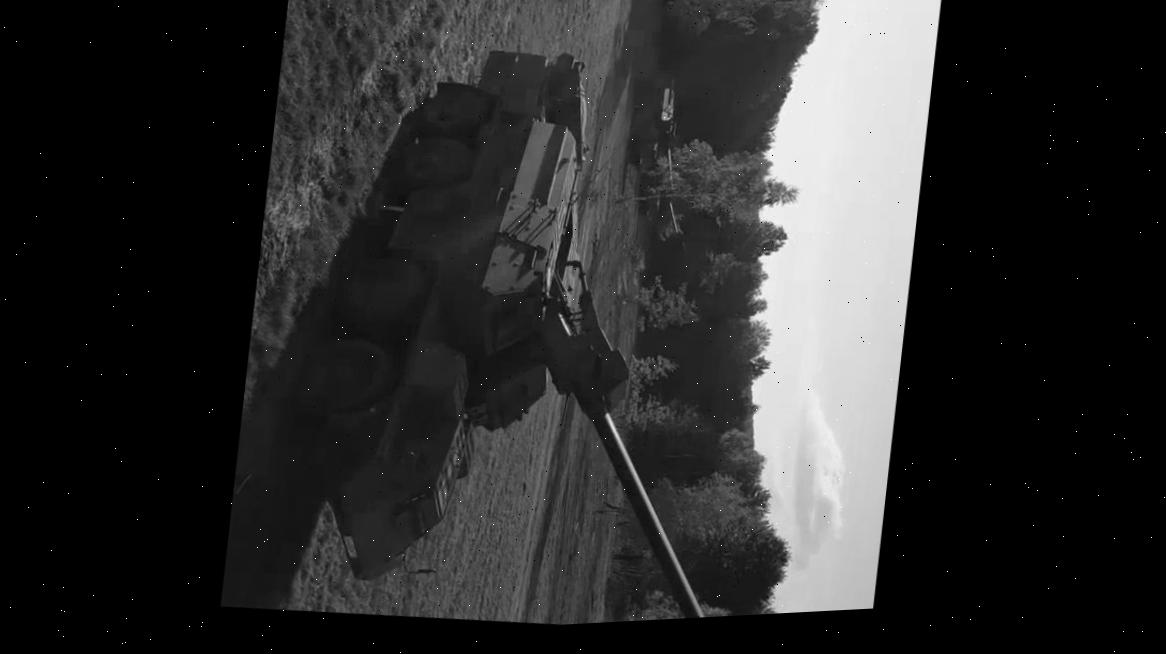sau: (271, 11, 887, 640), (615, 65, 697, 192)
